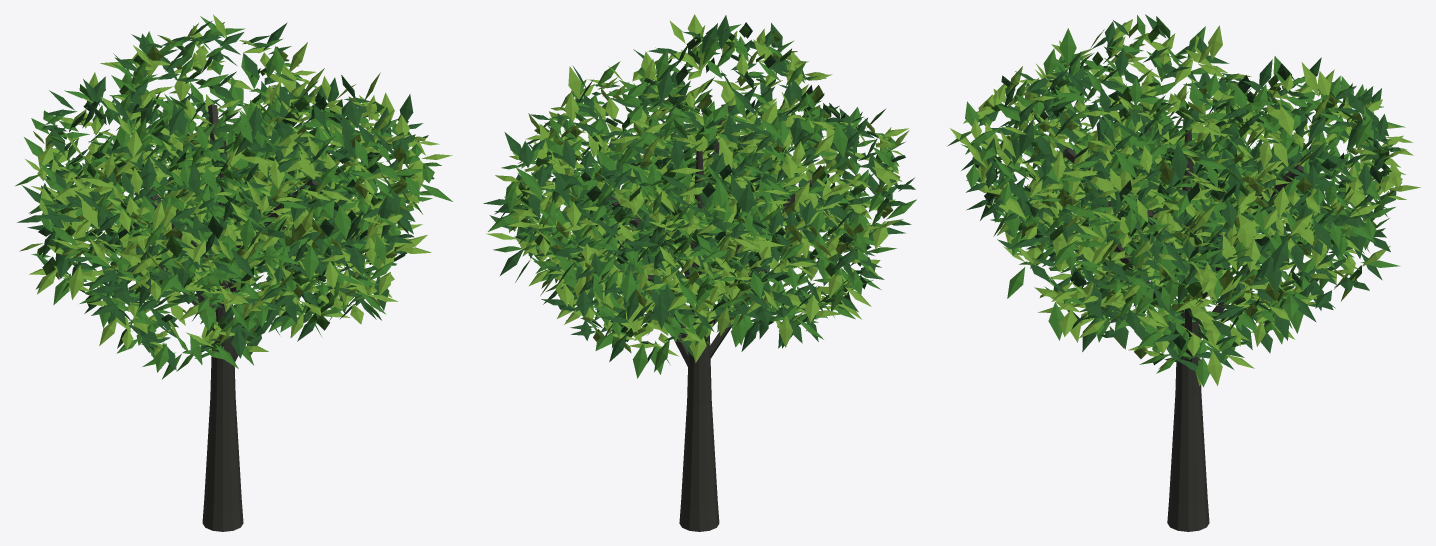
File: courtyard_tree.glb
The picture shows the model from 3 angles, left to right: view 1: azimuth 30°, elevation 25°; view 2: azimuth 150°, elevation 25°; view 3: azimuth 270°, elevation 25°; orthographic projection. The views are drawn at different scales.
Parts seen in each view (by area): view 1: courtyard_tree; view 2: courtyard_tree; view 3: courtyard_tree.
Boxes of the visible parts, x1,y1,x2,y2 form: courtyard_tree: (15, 14, 452, 531); courtyard_tree: (483, 14, 916, 531); courtyard_tree: (947, 14, 1420, 531).
Bounding box in the file's own units: 7.53 × 8.51 × 7.65.
